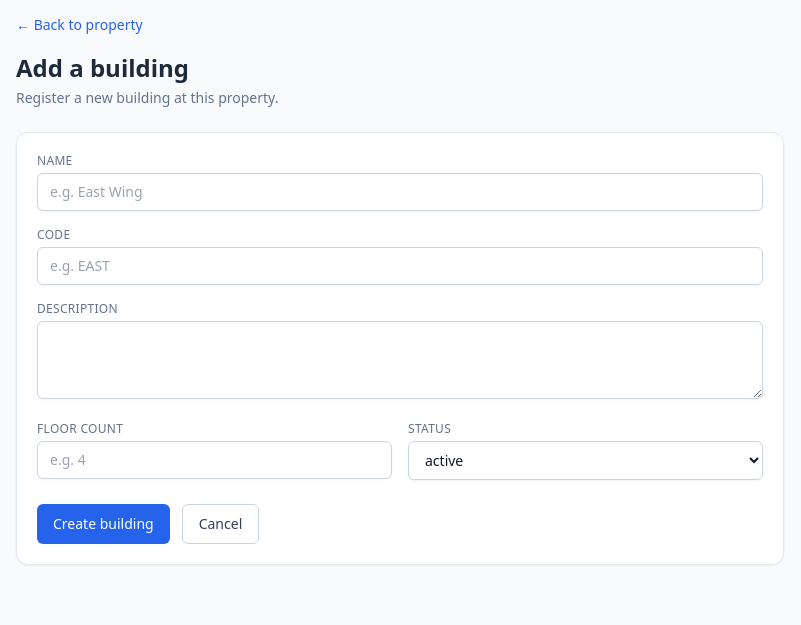
Test case: Staff building form page › validates floor count range
Type "East Wing" into the field labelled "Name". click: (400, 192)
box: x1=37 y1=173 x2=763 y2=211
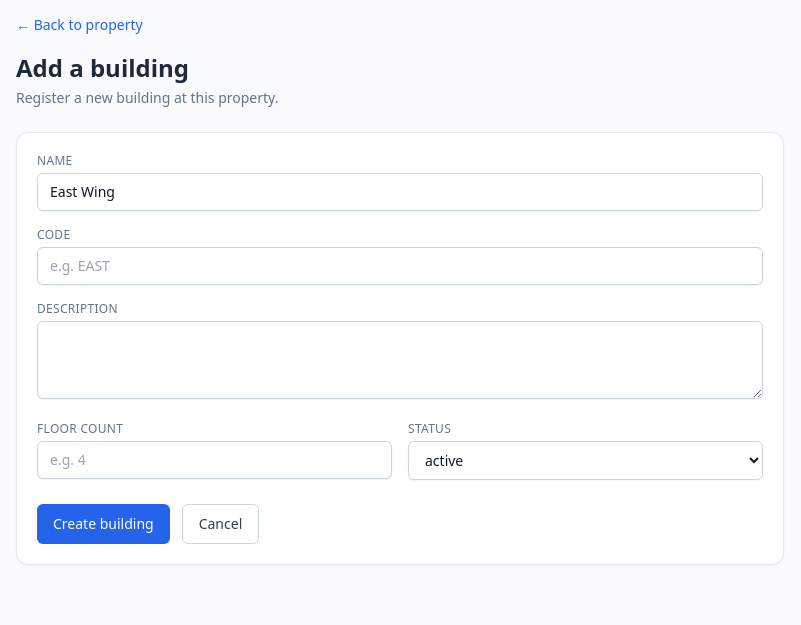
Type "EAST" into the field labelled "Code". click: (400, 266)
box: x1=37 y1=247 x2=763 y2=285
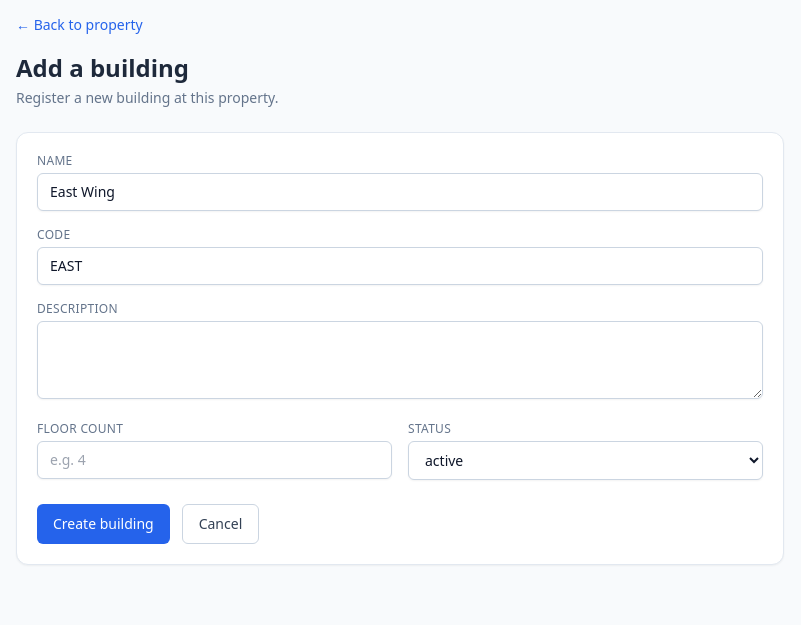
Type "201" into the number field labelled "Floor count". click: (214, 460)
box: x1=37 y1=441 x2=392 y2=479
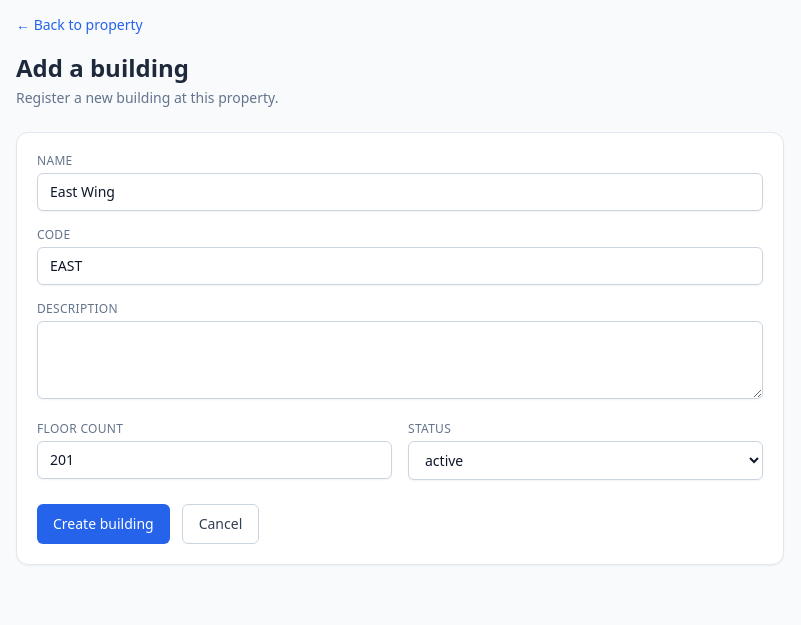
Click the button "Create building". click: (103, 524)
box: x1=37 y1=504 x2=170 y2=544
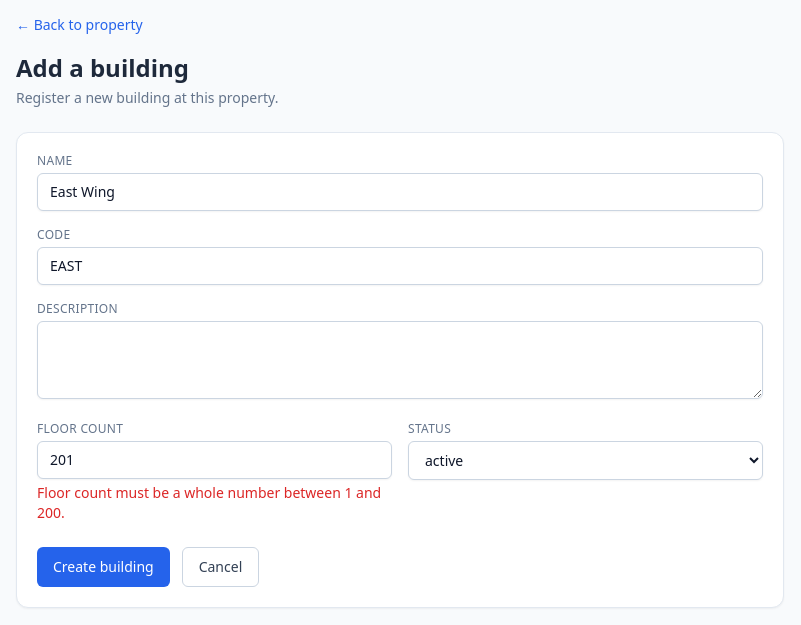
expect the text "Floor count must be a whole number between 1 and 200." is shown: met, box x1=37 y1=483 x2=392 y2=523
